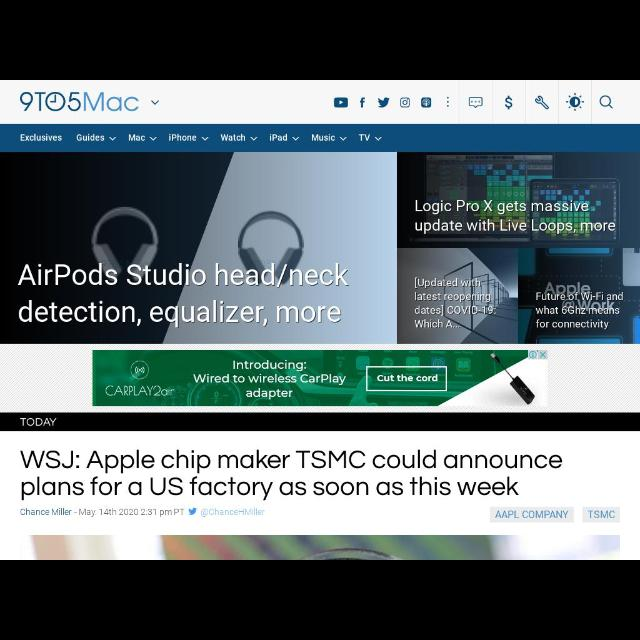icon: (566, 94, 584, 112), (600, 95, 614, 109), (536, 96, 548, 110), (469, 98, 483, 109), (334, 98, 348, 108), (378, 97, 390, 107), (400, 98, 410, 108), (421, 98, 431, 108), (506, 96, 512, 110), (188, 508, 198, 516), (360, 98, 366, 108), (151, 100, 159, 106), (109, 136, 117, 142), (149, 136, 157, 142), (201, 136, 209, 142), (250, 136, 258, 142), (292, 136, 300, 142), (374, 136, 382, 142), (339, 136, 346, 142), (446, 96, 449, 108)
iframe: (92, 350, 548, 406)
image: (1, 152, 639, 344), (20, 91, 140, 112)
multitab: (21, 132, 383, 142)
spinner: (76, 134, 118, 142), (169, 133, 209, 141), (220, 134, 258, 142), (311, 133, 347, 141), (128, 134, 158, 142), (270, 133, 300, 141), (358, 134, 382, 142)
text: (21, 450, 563, 500), (21, 508, 185, 518), (496, 510, 568, 520), (201, 508, 265, 518), (20, 134, 62, 142), (19, 418, 56, 427), (312, 132, 336, 142), (586, 511, 616, 519), (77, 134, 105, 142), (169, 134, 197, 142), (220, 134, 246, 142), (128, 134, 146, 142), (270, 133, 288, 141), (358, 134, 370, 140)
textbutton: (490, 508, 574, 522), (583, 507, 621, 523)
toolbar: (20, 91, 614, 113)
